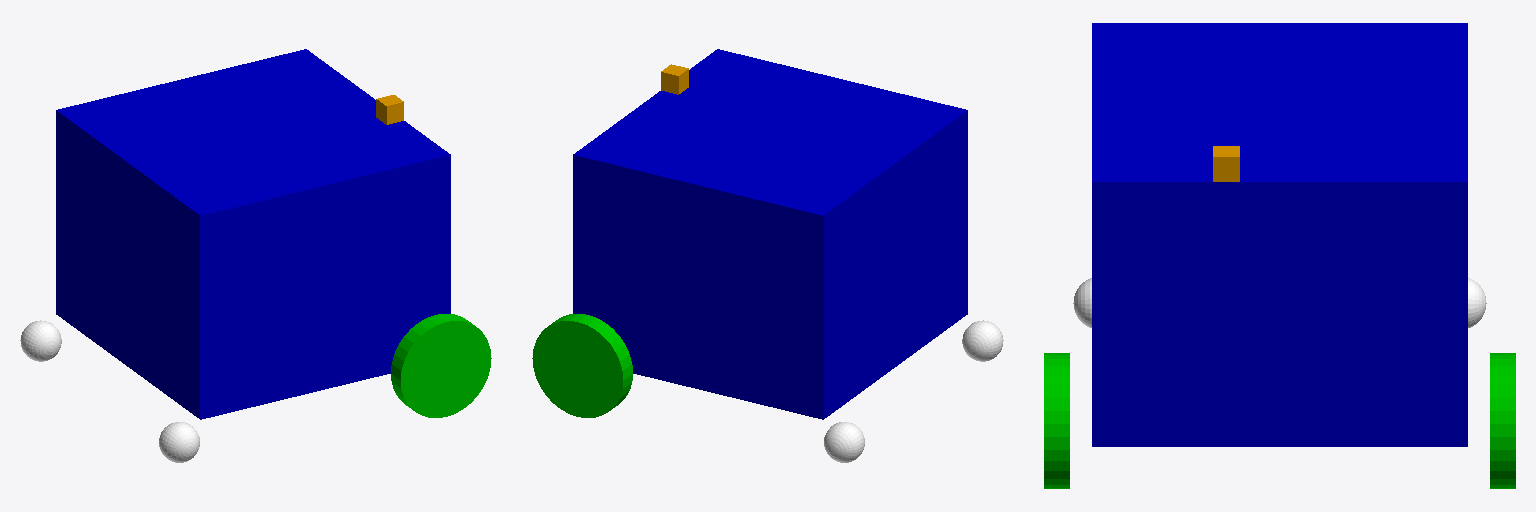
The robot description file, URDF, robot "porter":
<?xml version="1.0" encoding="utf-8"?>
<!-- =================================================================================== -->
<!-- |    This document was autogenerated by xacro from model.xacro                    | -->
<!-- |    EDITING THIS FILE BY HAND IS NOT RECOMMENDED                                 | -->
<!-- =================================================================================== -->
<robot name="porter" xmlns:xacro="http://www.ros.org/wiki/xacro">
  <!-- Parameters of the lidar -->
  <!-- Material block -->
  <material name="blue">
    <color rgba="0 0 0.8 1"/>
  </material>
  <material name="white">
    <color rgba="1 1 1 1"/>
  </material>
  <material name="green">
    <color rgba="0 0.8 0 1"/>
  </material>
  <!-- Some useful macroses -->
  <!-- End of macroses -->
  <gazebo reference="chasiss">
    <mu1 value="200.0"/>
    <mu2 value="100.0"/>
    <kp value="2147483647.0"/>
    <kd value="1.0"/>
    <material>Gazebo/White</material>
  </gazebo>
  <gazebo>
    <plugin filename="libgazebo_ros_control.so" name="gazebo_ros_control">
      <robotNamespace>/</robotNamespace>
    </plugin>
    <plugin filename="libgazebo_ros_diff_drive.so" name="differential_drive_controller">
      <commandTopic>cmd_vel</commandTopic>
      <odometryTopic>odom</odometryTopic>
      <odometryFrame>odom</odometryFrame>
      <robotBaseFrame>chasiss</robotBaseFrame>
      <publishWheelTF>true</publishWheelTF>
      <publishWheelJointState>true</publishWheelJointState>
      <legacyMode>false</legacyMode>
      <wheelSeparation>0.83</wheelSeparation>
      <wheelDiameter>0.254</wheelDiameter>
      <wheelAcceleration>100</wheelAcceleration>
      <wheelTorque>100</wheelTorque>
      <updateRate>50</updateRate>
      <leftJoint>chasiss_to_left_actuated_wheel</leftJoint>
      <rightJoint>chasiss_to_right_actuated_wheel</rightJoint>
      <publishTf>1</publishTf>
    </plugin>
  </gazebo>
  <!-- Camera -->
  <link name="camera_main">
    <collision>
      <origin rpy="0 0 0" xyz="0 0 0"/>
      <geometry>
        <box size="0.05 0.05 0.05"/>
      </geometry>
    </collision>
    <visual>
      <origin rpy="0 0 0" xyz="0 0 0"/>
      <geometry>
        <box size="0.05 0.05 0.05"/>
      </geometry>
      <material name="red"/>
    </visual>
    <inertial>
      <mass value="1e-5"/>
      <origin rpy="0 0 0" xyz="0 0 0"/>
      <inertia ixx="1e-6" ixy="0" ixz="0" iyy="1e-6" iyz="0" izz="1e-6"/>
    </inertial>
  </link>
  <joint name="camera_joint" type="fixed">
    <axis xyz="0 0 0"/>
    <origin rpy="0 0 0" xyz="0.325 -0.1 0.275"/>
    <parent link="control_box"/>
    <child link="camera_main"/>
  </joint>
  <gazebo reference="camera_main">
    <sensor name="camera_main" type="camera">
      <update_rate>30.0</update_rate>
      <camera name="head">
        <horizontal_fov>1.3962634</horizontal_fov>
        <image>
          <width>640</width>
          <height>480</height>
          <format>R8G8B8</format>
        </image>
        <clip>
          <near>0.02</near>
          <far>300</far>
        </clip>
        <noise>
          <type>gaussian</type>
          <!-- Noise is sampled independently per pixel on each frame.
			That pixel's noise value is added to each of its color
			channels, which at that point lie in the range [0,1]. -->
          <mean>0.0</mean>
          <stddev>0.007</stddev>
        </noise>
      </camera>
      <plugin filename="libgazebo_ros_camera.so" name="camera_controller">
        <alwaysOn>true</alwaysOn>
        <updateRate>0.0</updateRate>
        <cameraName>porter/camera_main</cameraName>
        <imageTopicName>image_raw</imageTopicName>
        <cameraInfoTopicName>camera_info</cameraInfoTopicName>
        <frameName>camera_main</frameName>
        <hackBaseline>0.07</hackBaseline>
        <distortionK1>0.0</distortionK1>
        <distortionK2>0.0</distortionK2>
        <distortionK3>0.0</distortionK3>
        <distortionT1>0.0</distortionT1>
        <distortionT2>0.0</distortionT2>
      </plugin>
    </sensor>
  </gazebo>
  <!-- <xacro:macro name="OS1-64" params=" name:=  hz:=10 lasers:=64 samples:=512 min_range:=0.9 max_range:=75.0 noise:=0.008 min_angle:=-${M_PI} max_angle:=${M_PI}"> -->
  <joint name="mount_joint" type="fixed">
    <origin rpy="0 0 0" xyz="0.325 0.1 0.2865"/>
    <parent link="control_box"/>
    <child link="os1_sensor"/>
  </joint>
  <link name="os1_sensor">
    <inertial>
      <mass value="0.33"/>
      <origin rpy="0 0 0" xyz="0 0 0.0365"/>
      <inertia ixx="0.000241148" ixy="0" ixz="0" iyy="0.000241148" iyz="0" izz="0.000264"/>
    </inertial>
    <collision name="base_collision">
      <origin rpy="0 0 0" xyz="0 0 0.0365"/>
      <geometry>
        <cylinder length="0.073" radius="0.04"/>
      </geometry>
    </collision>
    <visual name="base_visual">
      <origin rpy="0 0 1.5707" xyz="0 0 0.0"/>
      <geometry>
        <mesh filename="package://porter_robot_model/meshes/os1_64.dae"/>
        <!-- <cylinder length="0.073" radius="0.04" /> -->
      </geometry>
    </visual>
  </link>
  <link name="os1_imu"/>
  <link name="os1_lidar"/>
  <joint name="imu_link_joint" type="fixed">
    <parent link="os1_sensor"/>
    <child link="os1_imu"/>
    <origin rpy="0 0 0" xyz="0.006253 -0.011775 0.007645"/>
  </joint>
  <gazebo reference="os1_imu">
    </gazebo>
  <joint name="lidar_link_joint" type="fixed">
    <parent link="os1_sensor"/>
    <child link="os1_lidar"/>
    <origin rpy="0 0 0" xyz="0.0 0.0 0.03618"/>
  </joint>
  <!-- Gazebo requires the ouster_gazebo_plugins package -->
  <gazebo reference="os1_sensor">
    <sensor name="os1_sensor" type="ray">
      <pose>0 0 0 0 0 0</pose>
      <visualize>false</visualize>
      <update_rate>10</update_rate>
      <ray>
        <scan>
          <horizontal>
            <samples>512</samples>
            <resolution>1</resolution>
            <min_angle>-3.14159265359</min_angle>
            <max_angle>3.14159265359</max_angle>
          </horizontal>
          <vertical>
            <samples>64</samples>
            <resolution>1</resolution>
            <min_angle>-0.261799387799</min_angle>
            <max_angle>0.261799387799</max_angle>
          </vertical>
        </scan>
        <range>
          <min>0.9</min>
          <max>75.0</max>
          <resolution>0.03</resolution>
        </range>
      </ray>
      <plugin filename="libgazebo_ros_laser.so" name="gazebo_ros_laser_controller">
        <topicName>/os1_cloud_node/points</topicName>
        <frameName>os1_lidar</frameName>
        <min_range>0.9</min_range>
        <max_range>75.0</max_range>
        <gaussianNoise>0.008</gaussianNoise>
      </plugin>
    </sensor>
  </gazebo>
  <!-- IMU -->
  <gazebo>
    <plugin filename="libhector_gazebo_ros_imu.so" name="imu_controller">
      <robotNamespace>/</robotNamespace>
      <updateRate>100.0</updateRate>
      <bodyName>os1_imu</bodyName>
      <topicName>/os1_cloud_node/imu</topicName>
      <accelDrift>0.005 0.005 0.005</accelDrift>
      <accelGaussianNoise>0.005 0.005 0.005</accelGaussianNoise>
      <rateDrift>0.005 0.005 0.005 </rateDrift>
      <rateGaussianNoise>0.005 0.005 0.005 </rateGaussianNoise>
      <headingDrift>0.005</headingDrift>
      <headingGaussianNoise>0.005</headingGaussianNoise>
    </plugin>
  </gazebo>
  <!-- Here actual model begins -->
  <link name="chasiss">
    <visual>
      <geometry>
        <box size="0.7 0.7 0.045"/>
      </geometry>
      <origin rpy="0 0 0" xyz="0 0 0"/>
      <material name="blue"/>
    </visual>
    <collision>
      <geometry>
        <box size="0.7 0.7 0.045"/>
      </geometry>
    </collision>
    <inertial>
      <mass value="15"/>
      <inertia ixx="0.61503125" ixy="0.0" ixz="0.0" iyy="0.61503125" iyz="0.0" izz="1.225"/>
    </inertial>
  </link>
  <link name="control_box">
    <visual>
      <geometry>
        <box size="0.7 0.7 0.5"/>
      </geometry>
      <origin rpy="0 0 0" xyz="0 0 0"/>
      <material name="blue"/>
    </visual>
    <collision>
      <geometry>
        <box size="0.7 0.7 0.5"/>
      </geometry>
    </collision>
    <inertial>
      <mass value="3"/>
      <inertia ixx="0.185" ixy="0.0" ixz="0.0" iyy="0.185" iyz="0.0" izz="0.245"/>
    </inertial>
  </link>
  <joint name="chasiss_to_control_box" type="fixed">
    <parent link="chasiss"/>
    <child link="control_box"/>
    <origin rpy="0 0 0" xyz="0.0 0.0 0.2725"/>
  </joint>
  <link name="right_actuated_wheel">
    <visual>
      <geometry>
        <cylinder length="0.048" radius="0.127"/>
      </geometry>
      <origin rpy="1.57075 0 0" xyz="0 0 0"/>
      <material name="green"/>
    </visual>
    <collision>
      <geometry>
        <cylinder length="0.048" radius="0.127"/>
      </geometry>
      <origin rpy="1.57075 0 0" xyz="0 0 0"/>
    </collision>
    <inertial>
      <mass value="3"/>
      <inertia ixx="0.01267275" ixy="0.0" ixz="0.0" iyy="0.0241935" iyz="0.0" izz="0.01267275"/>
    </inertial>
  </link>
  <joint name="chasiss_to_right_actuated_wheel" type="continuous">
    <parent link="chasiss"/>
    <child link="right_actuated_wheel"/>
    <axis xyz="0 1 0"/>
    <origin xyz="0.285 -0.415 0"/>
  </joint>
  <transmission name="right_actuated_wheel_trans">
    <type>transmission_interface/SimpleTransmission</type>
    <actuator name="right_actuated_wheel_motor">
      <mechanicalReduction>1</mechanicalReduction>
    </actuator>
    <joint name="chasiss_to_right_actuated_wheel">
      <hardwareInterface>hardware_interface/VelocityJointInterface</hardwareInterface>
    </joint>
  </transmission>
  <gazebo reference="right_actuated_wheel">
    <mu1 value="200.0"/>
    <mu2 value="200.0"/>
    <material>Gazebo/Grey</material>
  </gazebo>
  <link name="left_actuated_wheel">
    <visual>
      <geometry>
        <cylinder length="0.048" radius="0.127"/>
      </geometry>
      <origin rpy="1.57075 0 0" xyz="0 0 0"/>
      <material name="green"/>
    </visual>
    <collision>
      <geometry>
        <cylinder length="0.048" radius="0.127"/>
      </geometry>
      <origin rpy="1.57075 0 0" xyz="0 0 0"/>
    </collision>
    <inertial>
      <mass value="3"/>
      <inertia ixx="0.01267275" ixy="0.0" ixz="0.0" iyy="0.0241935" iyz="0.0" izz="0.01267275"/>
    </inertial>
  </link>
  <joint name="chasiss_to_left_actuated_wheel" type="continuous">
    <parent link="chasiss"/>
    <child link="left_actuated_wheel"/>
    <axis xyz="0 1 0"/>
    <origin xyz="0.285 0.415 0"/>
  </joint>
  <transmission name="left_actuated_wheel_trans">
    <type>transmission_interface/SimpleTransmission</type>
    <actuator name="left_actuated_wheel_motor">
      <mechanicalReduction>1</mechanicalReduction>
    </actuator>
    <joint name="chasiss_to_left_actuated_wheel">
      <hardwareInterface>hardware_interface/VelocityJointInterface</hardwareInterface>
    </joint>
  </transmission>
  <gazebo reference="left_actuated_wheel">
    <mu1 value="200.0"/>
    <mu2 value="200.0"/>
    <material>Gazebo/Grey</material>
  </gazebo>
  <link name="right_free_wheel">
    <visual>
      <geometry>
        <sphere radius="0.05"/>
      </geometry>
      <origin rpy="1.57075 0 0" xyz="0 0 0"/>
      <material name="white"/>
    </visual>
    <collision>
      <geometry>
        <sphere radius="0.05"/>
      </geometry>
      <origin rpy="1.57075 0 0" xyz="0 0 0"/>
    </collision>
    <inertial>
      <mass value="1"/>
      <inertia ixx="0.001" ixy="0.0" ixz="0.0" iyy="0.001" iyz="0.0" izz="0.001"/>
    </inertial>
  </link>
  <joint name="chasiss_to_right_free_wheel" type="fixed">
    <parent link="chasiss"/>
    <child link="right_free_wheel"/>
    <origin xyz="-0.4 -0.335 -0.077"/>
  </joint>
  <gazebo reference="right_free_wheel">
    <mu1 value="0"/>
    <mu2 value="0"/>
    <material>Gazebo/Grey</material>
  </gazebo>
  <link name="left_free_wheel">
    <visual>
      <geometry>
        <sphere radius="0.05"/>
      </geometry>
      <origin rpy="1.57075 0 0" xyz="0 0 0"/>
      <material name="white"/>
    </visual>
    <collision>
      <geometry>
        <sphere radius="0.05"/>
      </geometry>
      <origin rpy="1.57075 0 0" xyz="0 0 0"/>
    </collision>
    <inertial>
      <mass value="1"/>
      <inertia ixx="0.001" ixy="0.0" ixz="0.0" iyy="0.001" iyz="0.0" izz="0.001"/>
    </inertial>
  </link>
  <joint name="chasiss_to_left_free_wheel" type="fixed">
    <parent link="chasiss"/>
    <child link="left_free_wheel"/>
    <origin xyz="-0.4 0.335 -0.077"/>
  </joint>
  <gazebo reference="left_free_wheel">
    <mu1 value="0"/>
    <mu2 value="0"/>
    <material>Gazebo/Grey</material>
  </gazebo>
</robot>

--- What the picture shows (computed from the rendered views, not written in the file) ---
Views: 3 orthographic renders of the robot side by side, from view 1: azimuth 30°, elevation 25°; view 2: azimuth 150°, elevation 25°; view 3: azimuth 270°, elevation 25°.
Robot: porter — 10 links, 9 joints (2 continuous, 7 fixed); root link chasiss; default pose: every joint at zero.
Visible links, largest first — view 1: control_box, right_actuated_wheel, chasiss, left_free_wheel, right_free_wheel, camera_main; view 2: control_box, left_actuated_wheel, chasiss, right_free_wheel, left_free_wheel, camera_main; view 3: control_box, chasiss, right_actuated_wheel, left_actuated_wheel, camera_main, right_free_wheel, left_free_wheel.
Boxes of the visible links, <box> form: control_box: <box>56,49,450,402</box>; right_actuated_wheel: <box>391,314,491,417</box>; chasiss: <box>56,298,393,419</box>; left_free_wheel: <box>20,320,61,361</box>; right_free_wheel: <box>159,422,199,462</box>; camera_main: <box>376,95,403,124</box>; control_box: <box>573,49,967,402</box>; left_actuated_wheel: <box>532,314,632,417</box>; chasiss: <box>630,298,967,419</box>; right_free_wheel: <box>962,320,1003,361</box>; left_free_wheel: <box>824,422,864,462</box>; camera_main: <box>661,64,688,94</box>; control_box: <box>1092,23,1467,424</box>; chasiss: <box>1092,425,1467,446</box>; right_actuated_wheel: <box>1044,353,1069,488</box>; left_actuated_wheel: <box>1490,353,1515,488</box>; camera_main: <box>1213,146,1239,181</box>; right_free_wheel: <box>1073,278,1091,327</box>; left_free_wheel: <box>1468,278,1486,327</box>.
Bounding box of the posed robot: 0.862 × 0.878 × 0.6995 m (x, y, z).
0 mesh visuals loaded from 1 distinct referenced files (none loaded); not drawn: 1 (reference not matched to a file when rendering).
